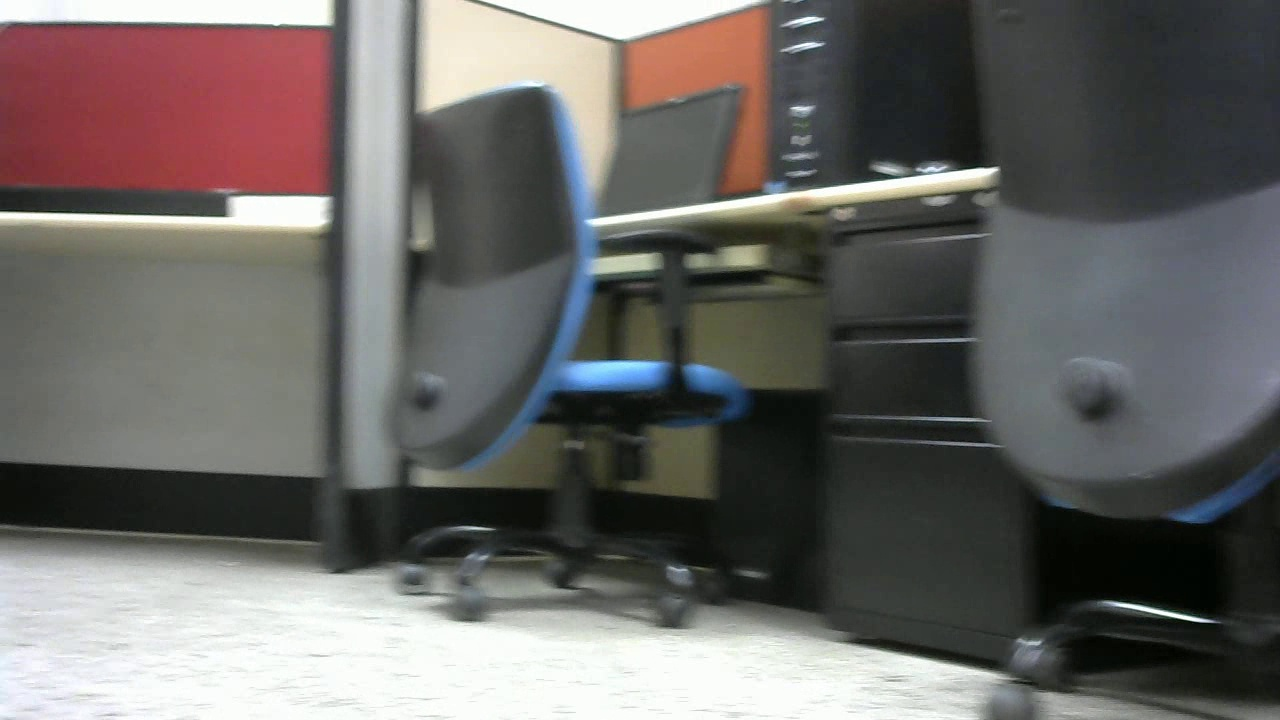chair: (390, 81, 752, 627)
